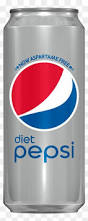pepsi: (8, 52, 80, 133), (13, 145, 77, 161)
